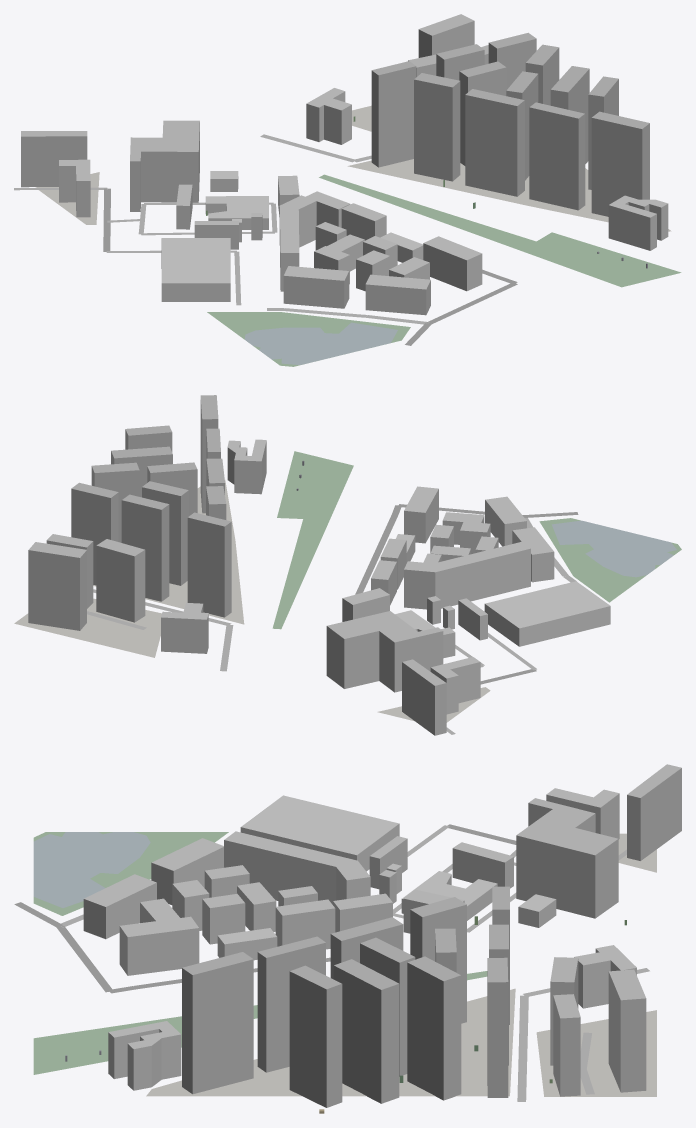
3 views of the same model, one above another, from view 1: azimuth 30°, elevation 25°; view 2: azimuth 150°, elevation 25°; view 3: azimuth 270°, elevation 25° (orthographic). The views are drawn at different scales.
Size of the model in its own units: 560 by 106 by 536.
